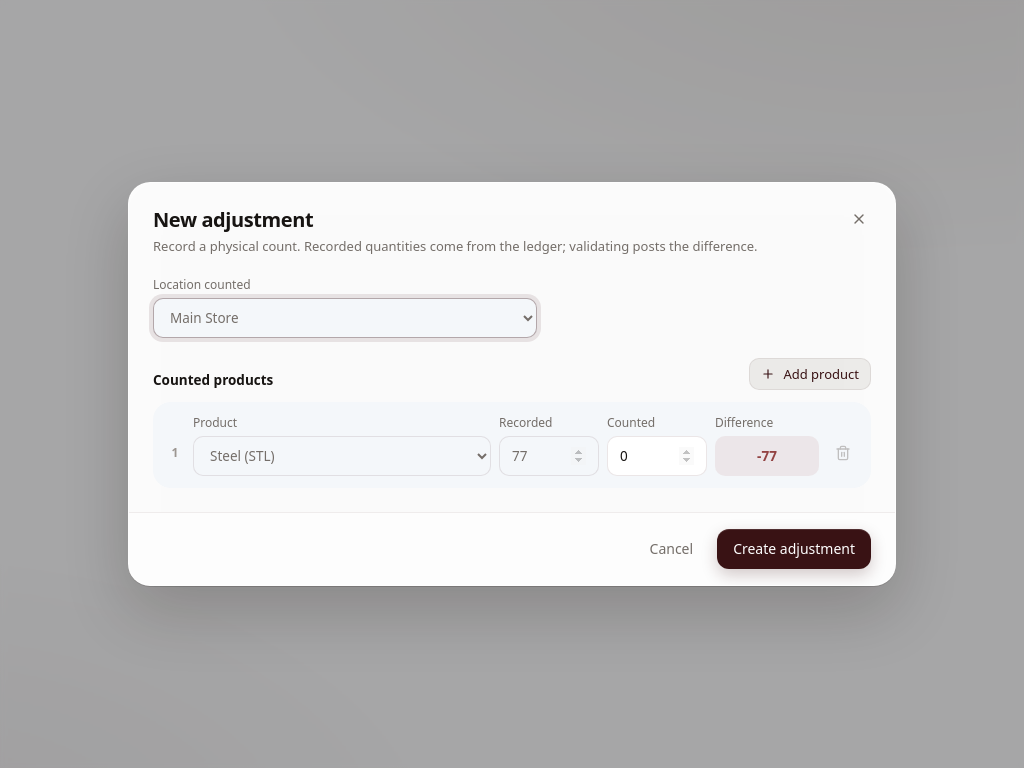
Test: CreateAdjustmentModal recorded quantity › follows the location: 5 at Shelf B
Expected: the number field labelled "Recorded" holds "77", [499,436,599,476]
Select "Shelf B" in the dropdown labelled "Location counted" at [345, 318], box [153,298,537,338]
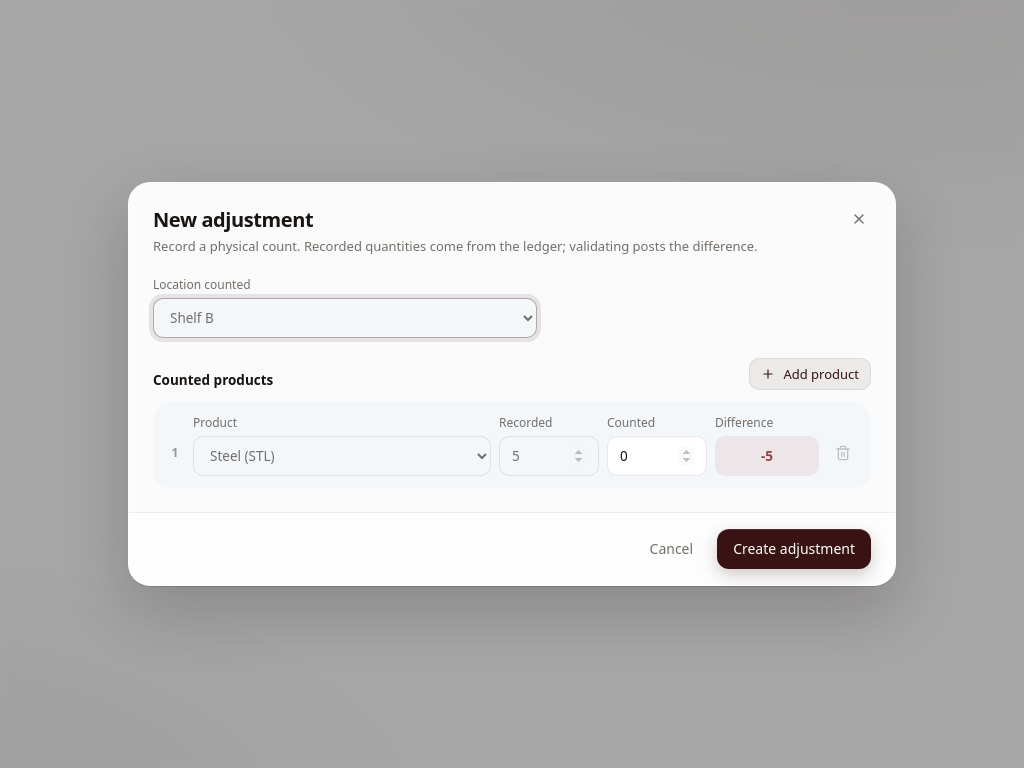
Expected: the number field labelled "Recorded" holds "5", [499,436,599,476]
